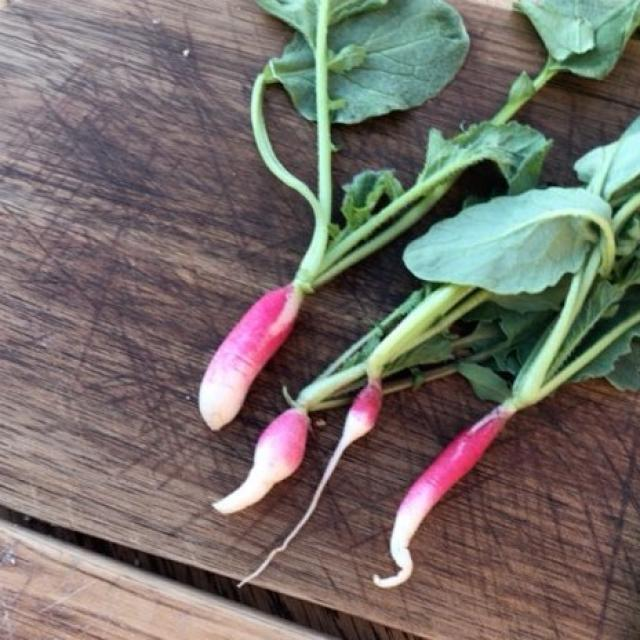radish: (205, 275, 506, 578)
